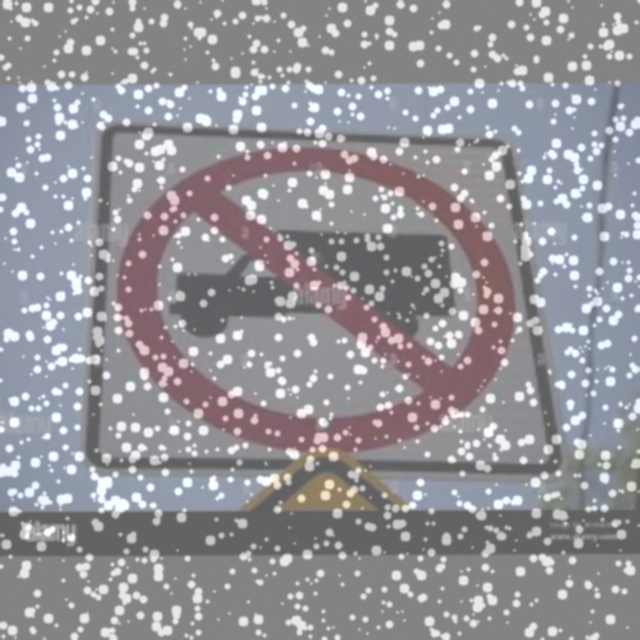Truck_Prohibited: (119, 142, 529, 448)
